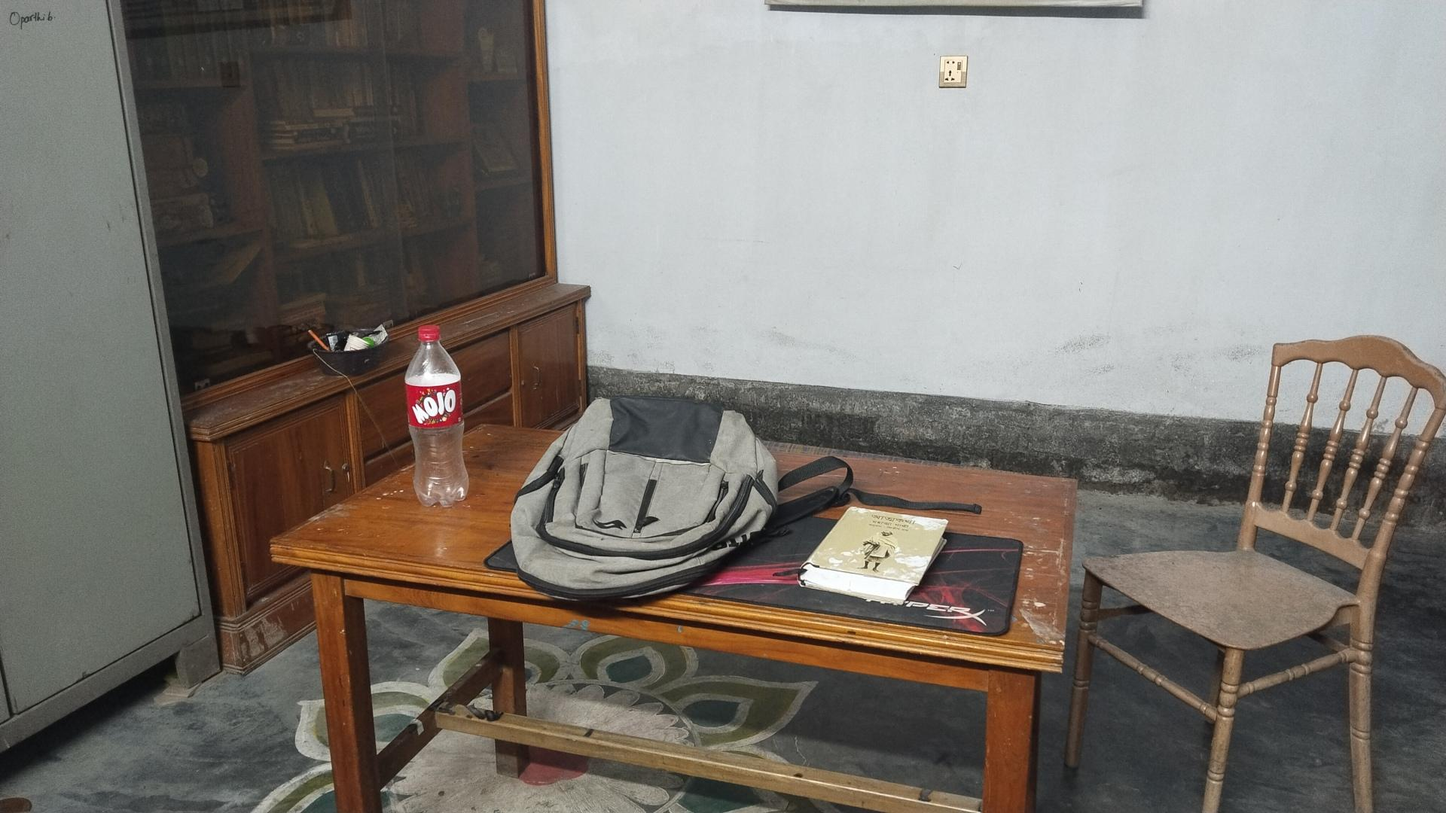Bag: (518, 389, 773, 597)
Book: (806, 500, 949, 598)
Bottle: (400, 324, 470, 506)
Chair: (1086, 343, 1446, 809)
Table: (271, 415, 1081, 813)
